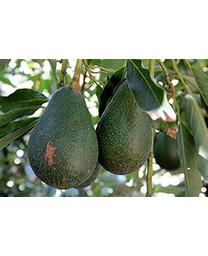avocado: (24, 84, 102, 192), (93, 74, 156, 176)
